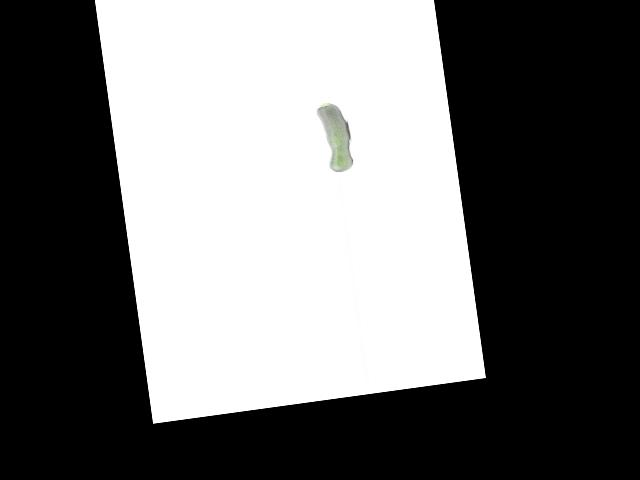cucumber: (316, 100, 354, 173)
